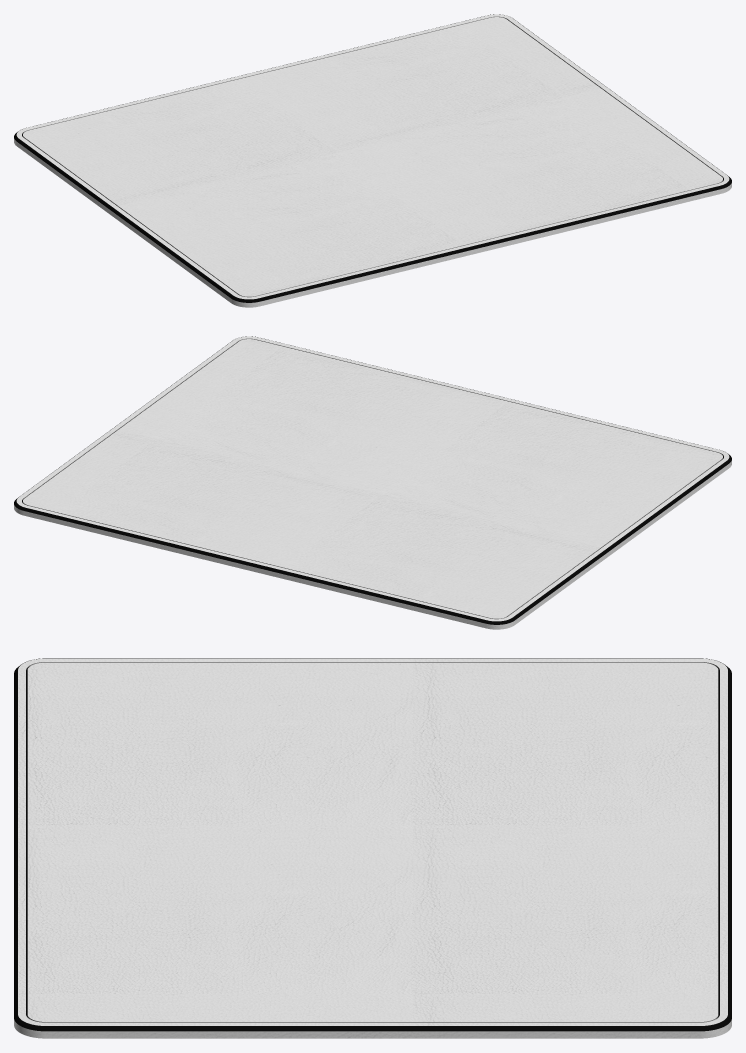
Rendered from Коврик для мыши.fbx.
3 views of the same model, one above another, from view 1: azimuth 30°, elevation 25°; view 2: azimuth 150°, elevation 25°; view 3: azimuth 270°, elevation 25° (orthographic). The views are drawn at different scales.
Visible parts, largest first — view 1: Group1; view 2: Group1; view 3: Group1.
Part boxes in pixels (x1,y1,x2,y2): Group1: (14, 14, 731, 307); Group1: (14, 336, 731, 629); Group1: (14, 658, 731, 1038).
Bounding box in the file's own units: 220 × 3 × 180.
